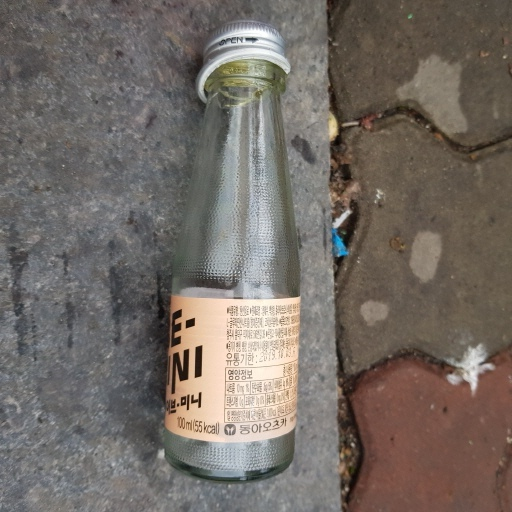Glass_4: (158, 24, 304, 484)
